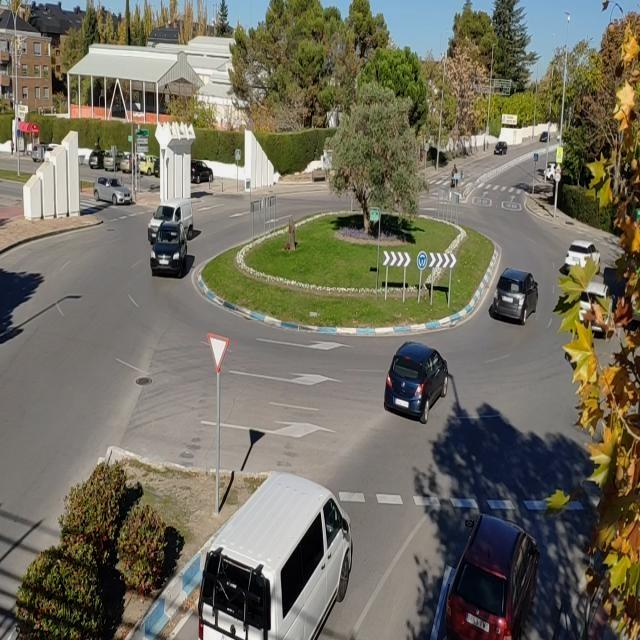Car: (434, 513, 540, 638), (383, 343, 449, 423), (491, 269, 539, 324), (149, 222, 189, 276), (576, 282, 614, 336), (563, 240, 599, 272), (94, 176, 132, 205), (103, 150, 128, 172), (190, 160, 213, 183), (120, 152, 142, 174), (137, 154, 159, 176), (31, 144, 52, 162), (88, 149, 106, 169), (544, 161, 561, 181), (44, 143, 65, 159), (122, 151, 144, 160), (494, 141, 507, 155), (191, 165, 197, 182), (539, 132, 549, 142), (45, 144, 57, 151)
Van: (195, 474, 351, 636), (146, 198, 192, 244)
